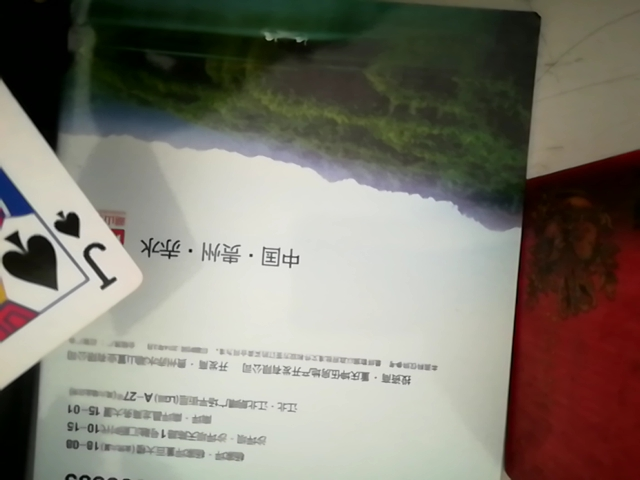ht j: (0, 31, 147, 425)
